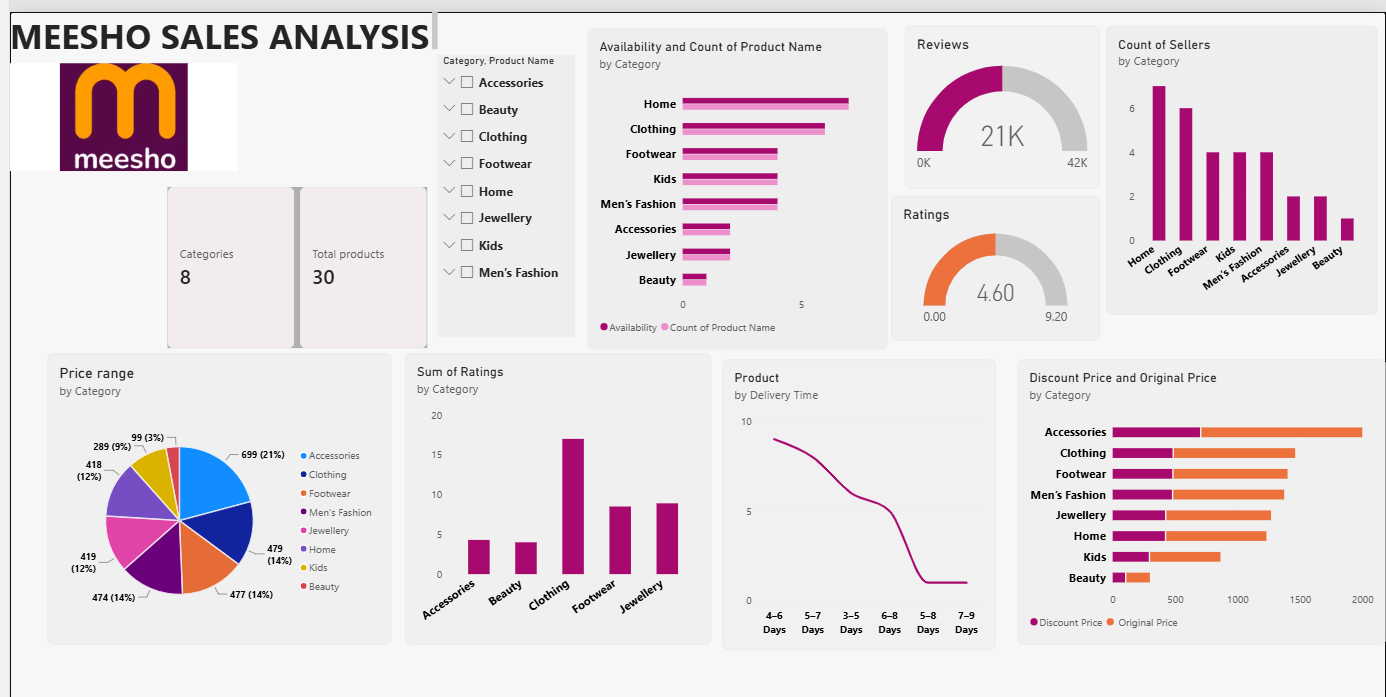

Layout of this report page (visuals, bound fields, positions):
{"tool":"powerbi","page":{"name":"Page 1","canvas":[1920,1080],"ordinal":0},"visuals":[{"type":"cardVisual","fields":{"Data":["Count(meesho_product_dataset_india_30.Category)","meesho_product_dataset_india_30.Total products"]},"box":[209.3,230.2,362.8,225],"z":0},{"type":"clusteredBarChart","fields":{"Category":["meesho_product_dataset_india_30.Category"],"Y":["CountNonNull(meesho_product_dataset_india_30.Availability)","CountNonNull(meesho_product_dataset_india_30.Product Name)"]},"box":[811.5,18.4,417.4,435.8],"z":1000},{"type":"pieChart","fields":{"Category":["meesho_product_dataset_india_30.Category"],"Y":["Avg(meesho_product_dataset_india_30.Discount Price)"]},"box":[33.4,497.6,480.9,405.8],"z":2000},{"type":"barChart","fields":{"Category":["meesho_product_dataset_india_30.Category"],"Y":["Avg(meesho_product_dataset_india_30.Discount Price)","Avg(meesho_product_dataset_india_30.Original Price)"]},"box":[1439,495.4,482.6,405.8],"z":3000},{"type":"clusteredColumnChart","fields":{"Category":["meesho_product_dataset_india_30.Category"],"Y":["CountNonNull(meesho_product_dataset_india_30.Seller Name)"]},"box":[1534.5,18.4,379,440.8],"z":4000},{"type":"clusteredColumnChart","fields":{"Category":["meesho_product_dataset_india_30.Category","meesho_product_dataset_india_30.Product Name"],"Y":["Sum(meesho_product_dataset_india_30.Ratings)"]},"box":[540.7,495.4,444.8,408.1],"z":5000},{"type":"gauge","fields":{"Y":["Sum(meesho_product_dataset_india_30.Reviews)"]},"box":[1248.8,19.2,272,226.9],"z":6000},{"type":"lineChart","fields":{"Category":["meesho_product_dataset_india_30.Delivery Time"],"Y":["CountNonNull(meesho_product_dataset_india_30.Product Name)"]},"box":[1002.9,497.1,418.6,406.4],"z":7000},{"type":"image","box":[104.7,59.3,233.8,150.3],"z":8000},{"type":"gauge","fields":{"Y":["Max(meesho_product_dataset_india_30.Ratings)"]},"box":[1249,257.1,272.2,202],"z":9000},{"type":"textbox","box":[0,0,596.5,57.6],"z":10000},{"type":"slicer","fields":{"Values":["meesho_product_dataset_india_30.Category","meesho_product_dataset_india_30.Product Name"]},"box":[596.5,59.3,191.9,394.2],"z":11000}]}

Visuals, with their boxes on the page's 1920x1080 design canvas (x1, y1, x2, y2). These are canvas units, not pixel positions in the 1386x697 screenshot, which may show the page scaled, cropped or inside an application window:
cardVisual - Count(meesho_product_dataset_india_30.Category) x meesho_product_dataset_india_30.Total products: 209,230,572,455
clusteredBarChart - meesho_product_dataset_india_30.Category x CountNonNull(meesho_product_dataset_india_30.Availability): 812,18,1229,454
pieChart - meesho_product_dataset_india_30.Category x Avg(meesho_product_dataset_india_30.Discount Price): 33,498,514,903
barChart - meesho_product_dataset_india_30.Category x Avg(meesho_product_dataset_india_30.Discount Price): 1439,495,1922,901
clusteredColumnChart - meesho_product_dataset_india_30.Category x CountNonNull(meesho_product_dataset_india_30.Seller Name): 1534,18,1914,459
clusteredColumnChart - meesho_product_dataset_india_30.Category x meesho_product_dataset_india_30.Product Name: 541,495,986,904
gauge - Sum(meesho_product_dataset_india_30.Reviews): 1249,19,1521,246
lineChart - meesho_product_dataset_india_30.Delivery Time x CountNonNull(meesho_product_dataset_india_30.Product Name): 1003,497,1422,904
image: 105,59,338,210
gauge - Max(meesho_product_dataset_india_30.Ratings): 1249,257,1521,459
textbox: 0,0,596,58
slicer - meesho_product_dataset_india_30.Category x meesho_product_dataset_india_30.Product Name: 596,59,788,454
